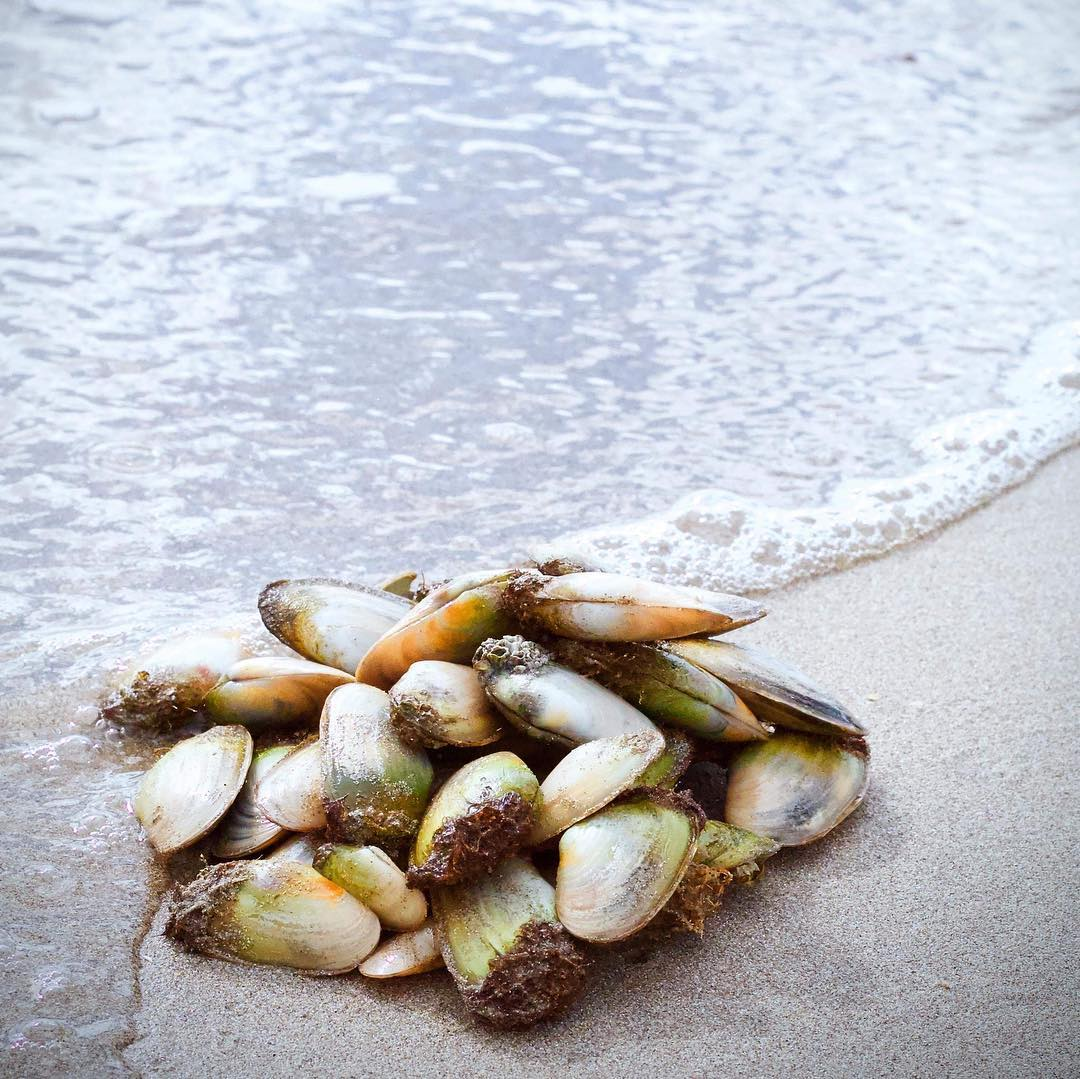tuatua: (177, 860, 380, 982), (436, 854, 581, 1019), (573, 634, 773, 750), (728, 719, 876, 871), (555, 791, 694, 946), (674, 636, 873, 740), (483, 640, 671, 749), (362, 564, 514, 687), (407, 747, 540, 875), (133, 715, 252, 854), (519, 565, 735, 641), (324, 677, 425, 836), (259, 567, 397, 664), (315, 836, 432, 932), (202, 656, 357, 727), (535, 736, 667, 815), (387, 654, 497, 747)
